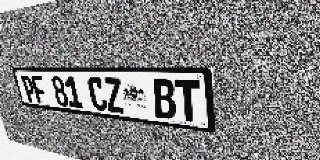1: (63, 76, 83, 108)
8: (50, 76, 70, 107)
B: (152, 79, 177, 120)
C: (87, 77, 108, 112)
F: (30, 75, 49, 104)
P: (20, 75, 38, 103)
T: (175, 79, 201, 123)
Z: (103, 77, 125, 114)
